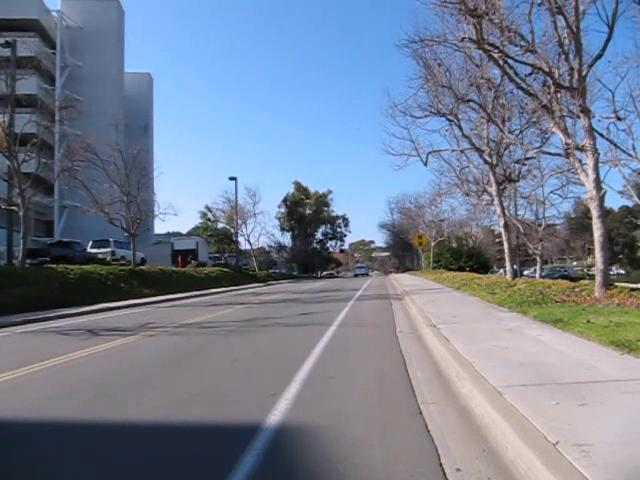signalAhead: (409, 230, 429, 251)
